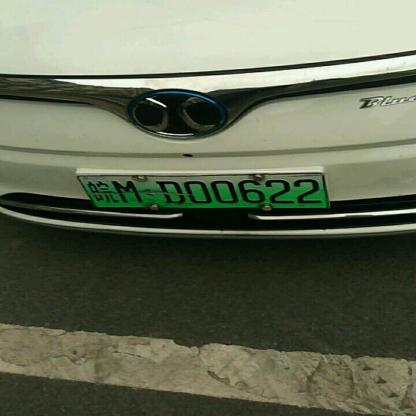lp: (76, 172, 329, 206)
